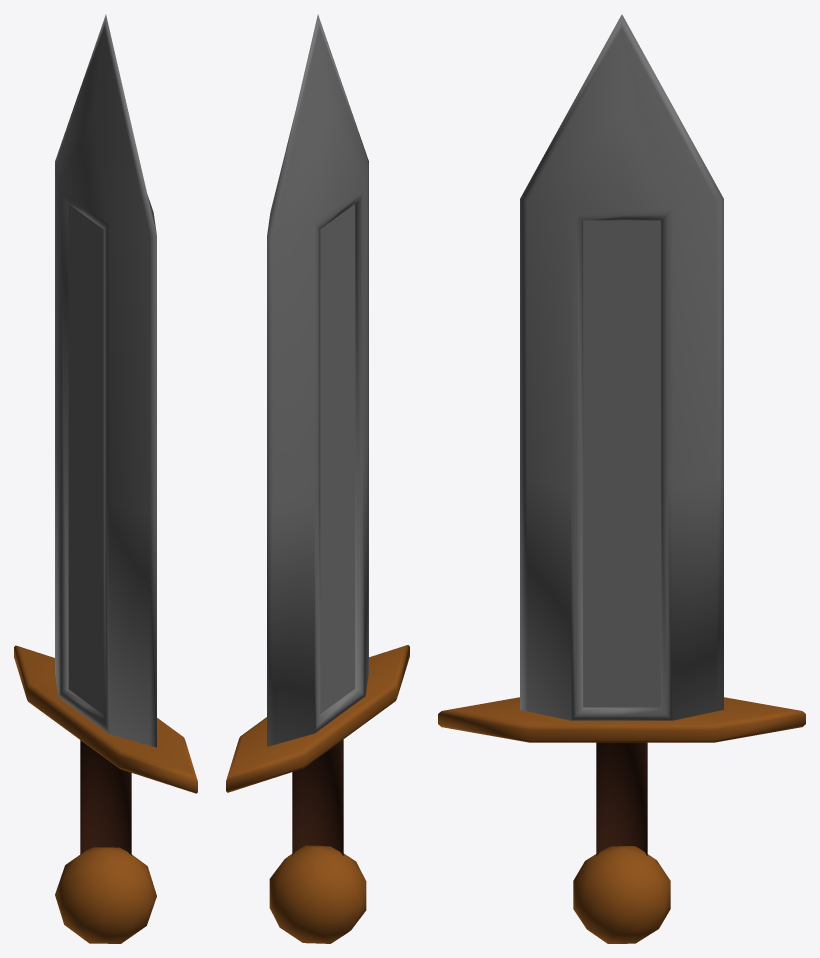
The model's file is swordDemonSword.gltf.
3 views of the same model, side by side, from view 1: azimuth 30°, elevation 25°; view 2: azimuth 150°, elevation 25°; view 3: azimuth 270°, elevation 25° (orthographic).
Parts seen in each view (by area): view 1: Cube; view 2: Cube; view 3: Cube.
Part boxes in pixels (x1,y1,x2,y2): Cube: (14, 14, 197, 943); Cube: (226, 14, 409, 943); Cube: (438, 14, 805, 943).
Size of the model in its own units: 0.1 by 1 by 0.36.
